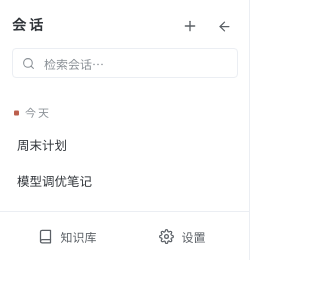
Scenario: SessionSidebar 会话搜索 › 标题过滤：输入关键词仅保留匹配会话，无匹配时展示空态
The width and height of the screenshot is (320, 286).
Type "模型" into the field with class "search-input" at (135,63), box [42,54,228,72]
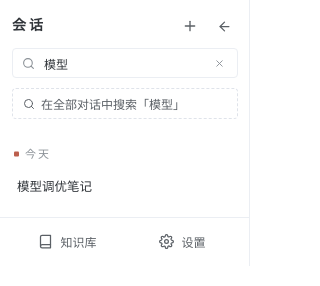
Replace the text in the field with class "search-input" with "不存在的会话" at (122,63), box [42,54,203,72]
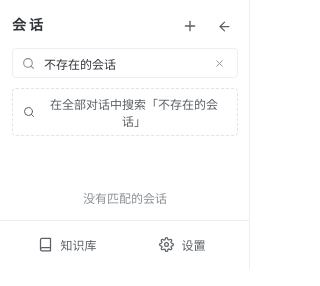
Result: the text with class "empty-hint" reads "没有匹配的会话" at [83,189,167,206]
